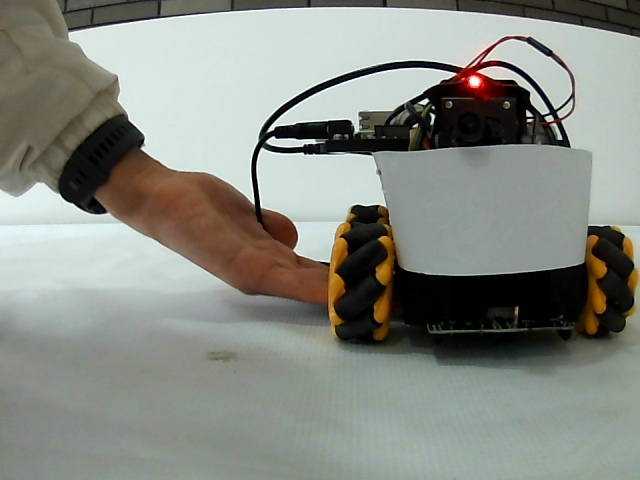car: (320, 66, 633, 341)
paper: (383, 154, 588, 269)
